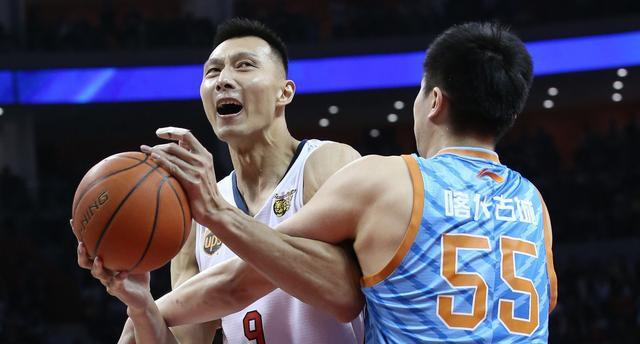ball: (71, 152, 192, 277)
